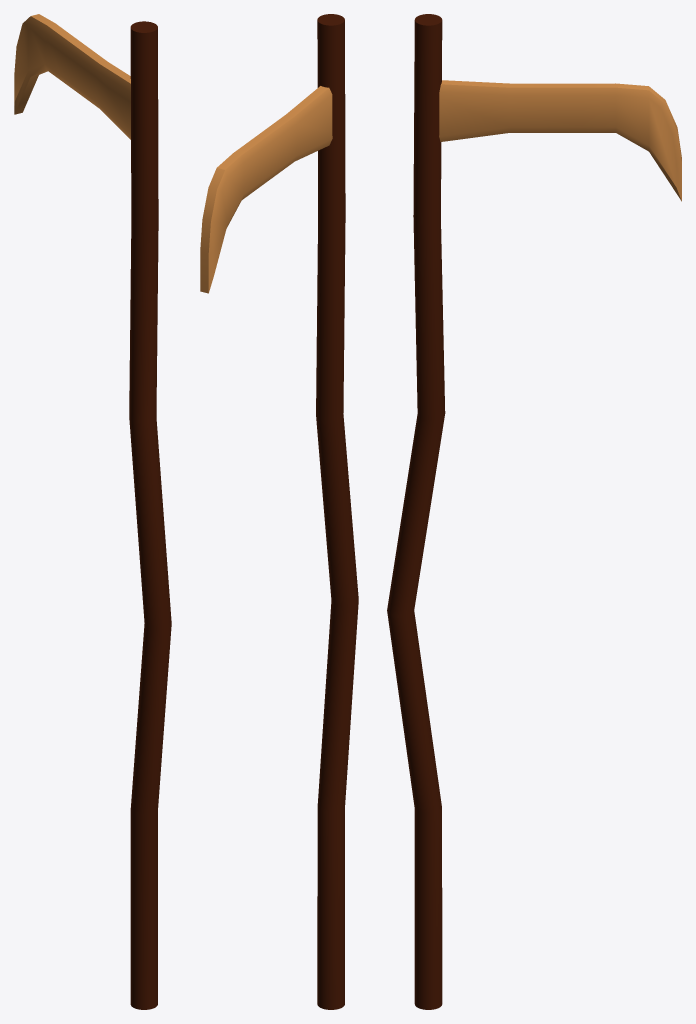
File: scythe.fbx
The picture shows the model from 3 angles, left to right: view 1: azimuth 30°, elevation 25°; view 2: azimuth 150°, elevation 25°; view 3: azimuth 270°, elevation 25°; orthographic projection.
Visible parts, largest first — view 1: Cylinder.002, Cube.005; view 2: Cylinder.002, Cube.005; view 3: Cylinder.002, Cube.005.
Boxes of the visible parts, x1,y1,x2,y2 form: Cylinder.002: [129, 21, 171, 1009]; Cube.005: [14, 14, 130, 139]; Cylinder.002: [316, 14, 358, 1009]; Cube.005: [200, 86, 332, 293]; Cylinder.002: [387, 14, 445, 1009]; Cube.005: [439, 80, 681, 201].
Size of the model in its own units: 48.06 by 4.49 by 177.
